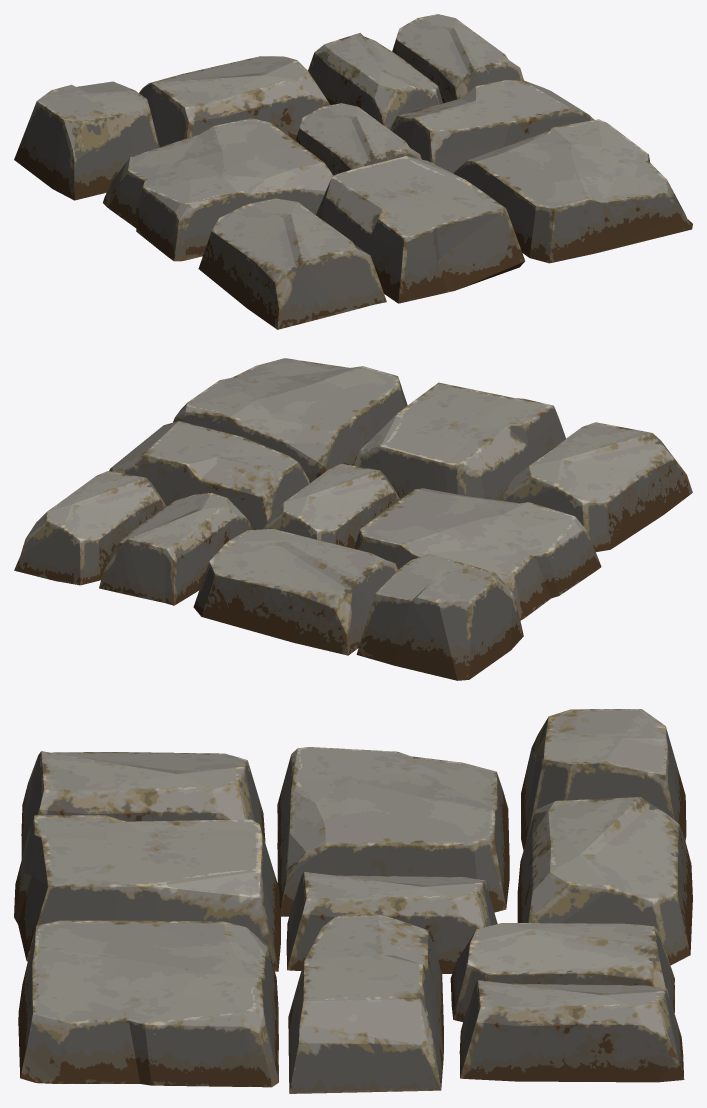
File: RockPath_Square_Small_1__go_coast.glb
The picture shows the model from 3 angles, top to bottom: view 1: azimuth 30°, elevation 25°; view 2: azimuth 150°, elevation 25°; view 3: azimuth 270°, elevation 25°; orthographic projection. The views are drawn at different scales.
Parts seen in each view (by area): view 1: RockPath_Square_Small_1; view 2: RockPath_Square_Small_1; view 3: RockPath_Square_Small_1.
Boxes of the visible parts, bbox=[...] form: RockPath_Square_Small_1: bbox=[14, 14, 692, 329]; RockPath_Square_Small_1: bbox=[14, 358, 692, 680]; RockPath_Square_Small_1: bbox=[14, 709, 692, 1093].
Size of the model in its own units: 1.02 by 0.1499 by 0.9739.
1 material, 1 textured.
